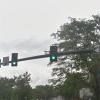Traffic light: (9, 46, 63, 67)
